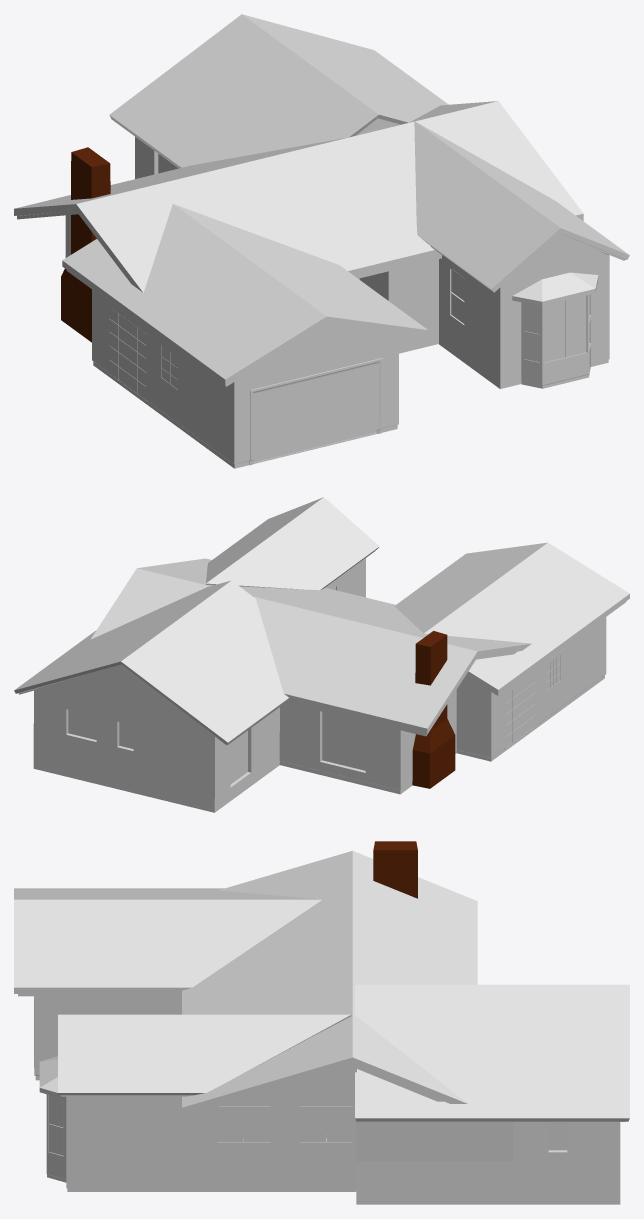
File: Home F.fbx
3 views of the same model, one above another, from view 1: azimuth 30°, elevation 25°; view 2: azimuth 150°, elevation 25°; view 3: azimuth 270°, elevation 25° (orthographic). The views are drawn at different scales.
Parts seen in each view (by area): view 1: Main Roof, Master Bedroom Roof, Garage Roof, Bedroom Roof, Garage Room, Front Room, Garage Door, Chimney, MainRoomRight, Glass.004, Front Bedroom Window, Glass.003 (+4 smaller); view 2: Main Roof, MasterBedroom, Master Bedroom Roof, Garage Roof, Bedroom Roof, MainRoomLeft, Garage Room, Chimney, Glass.004, Front Room; view 3: Main Roof, Master Bedroom Roof, Garage Roof, Front Room, MasterBedroom, Bedroom Roof, Garage Room, Chimney, Window.001, Window.002, Front Bedroom Window, Glass.002 (+2 smaller).
Boxes of the visible parts, <box> form: Main Roof: <box>14,101,583,292</box>; Master Bedroom Roof: <box>109,14,448,168</box>; Garage Roof: <box>62,204,428,386</box>; Bedroom Roof: <box>414,121,629,292</box>; Garage Room: <box>92,289,398,468</box>; Front Room: <box>439,235,609,388</box>; Garage Door: <box>254,363,378,462</box>; Chimney: <box>61,147,110,342</box>; MainRoomRight: <box>359,259,438,353</box>; Glass.004: <box>109,308,145,399</box>; Front Bedroom Window: <box>521,294,590,388</box>; Glass.003: <box>545,295,586,362</box>; Main Roof: <box>90,558,531,736</box>; MasterBedroom: <box>33,665,279,812</box>; Master Bedroom Roof: <box>14,580,288,745</box>; Garage Roof: <box>394,542,629,695</box>; Bedroom Roof: <box>206,497,379,590</box>; MainRoomLeft: <box>279,690,456,794</box>; Garage Room: <box>456,617,606,761</box>; Chimney: <box>412,631,455,788</box>; Glass.004: <box>505,674,534,747</box>; Front Room: <box>326,558,365,597</box>; Main Roof: <box>182,850,477,1117</box>; Master Bedroom Roof: <box>355,984,629,1121</box>; Garage Roof: <box>14,888,322,996</box>; Front Room: <box>66,1067,356,1191</box>; MasterBedroom: <box>356,1121,620,1204</box>; Bedroom Roof: <box>58,1014,351,1096</box>; Garage Room: <box>34,996,181,1080</box>; Chimney: <box>373,841,417,898</box>; Window.001: <box>299,1106,353,1142</box>; Window.002: <box>217,1106,270,1142</box>; Front Bedroom Window: <box>46,1094,66,1182</box>; Glass.002: <box>49,1095,63,1155</box>.
Bounding box in the file's own units: 974 × 351 × 1135.
